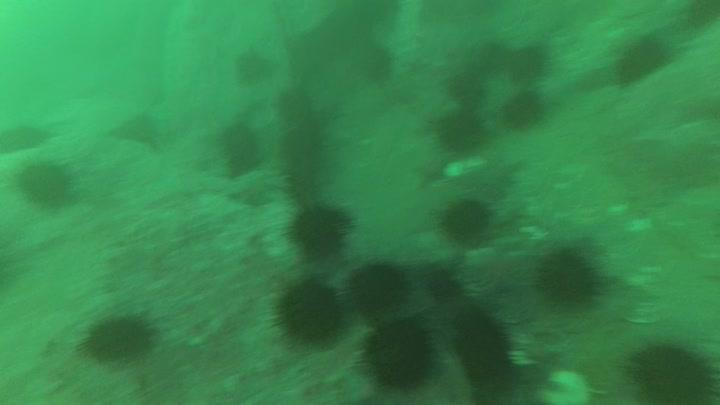urchin: (620, 334, 716, 405), (356, 313, 442, 390), (266, 272, 345, 345), (79, 306, 159, 372), (531, 242, 604, 311), (345, 256, 414, 321), (290, 199, 356, 263), (18, 152, 74, 210), (434, 193, 492, 243), (436, 108, 486, 153), (500, 86, 544, 128)
